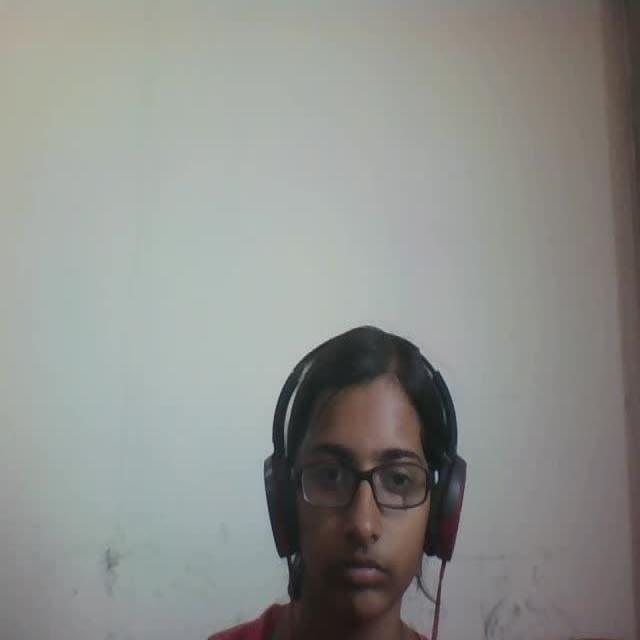Bored: (253, 279, 502, 640)
